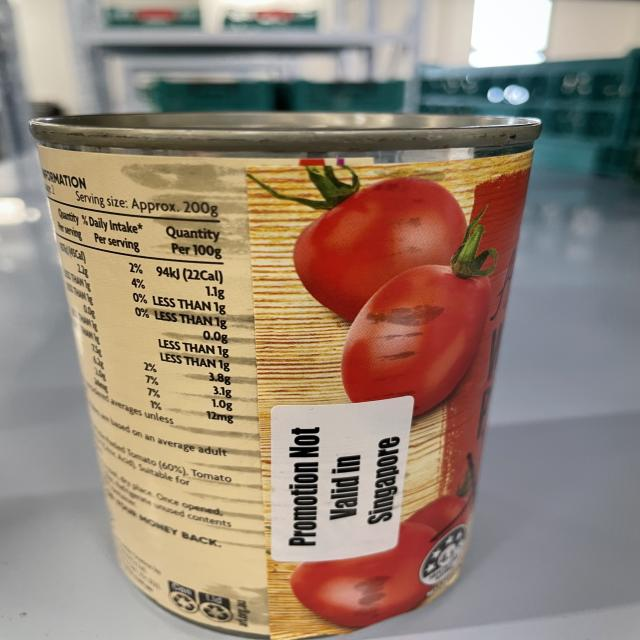object_name: (40, 116, 502, 633)
